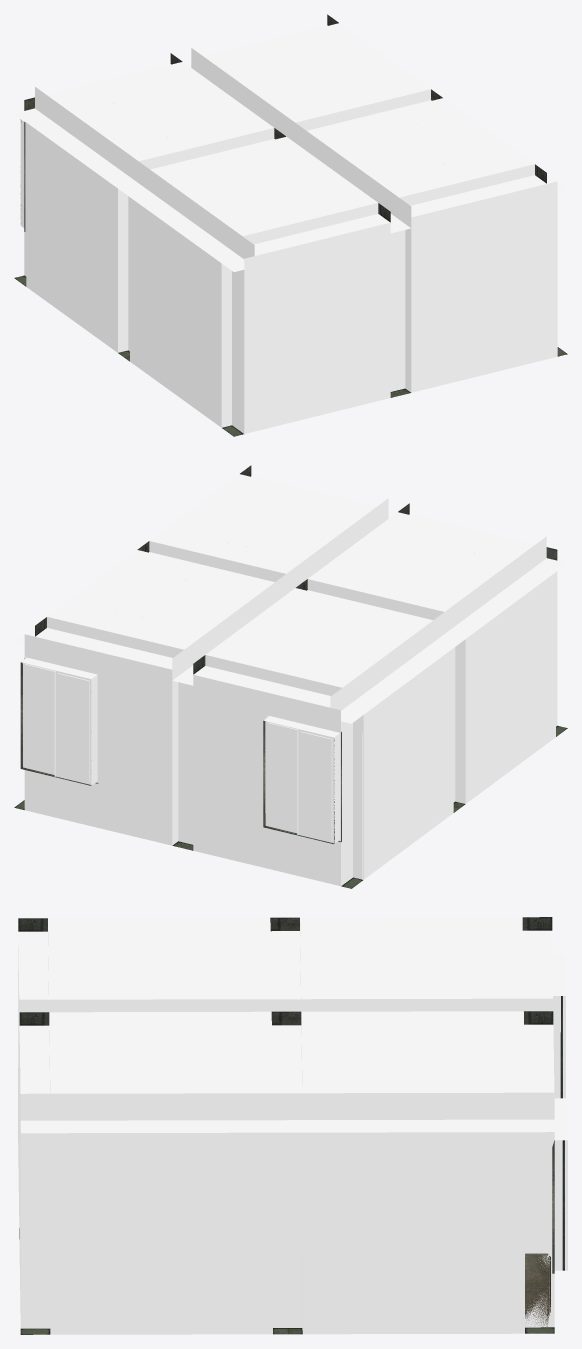
File: room.glb
3 views of the same model, one above another, from view 1: azimuth 30°, elevation 25°; view 2: azimuth 150°, elevation 25°; view 3: azimuth 270°, elevation 25° (orthographic). The views are drawn at different scales.
Visible parts, largest first — view 1: Material2, Material3; view 2: Material2, Material3 (×2); view 3: Material2, Material3 (×4).
Part boxes in pixels (bbox=[...]): Material2: bbox=[14, 23, 567, 433]; Material3: bbox=[170, 14, 546, 222]; Material2: bbox=[14, 474, 567, 886]; Material3 (×2): bbox=[20, 465, 557, 844]; Material2: bbox=[18, 917, 567, 1334]; Material3 (×4): bbox=[18, 917, 564, 1334].
Size of what is drawn, in the model's own units: 7.8 by 4.08 by 8.97.
12 materials, 12 textured.
